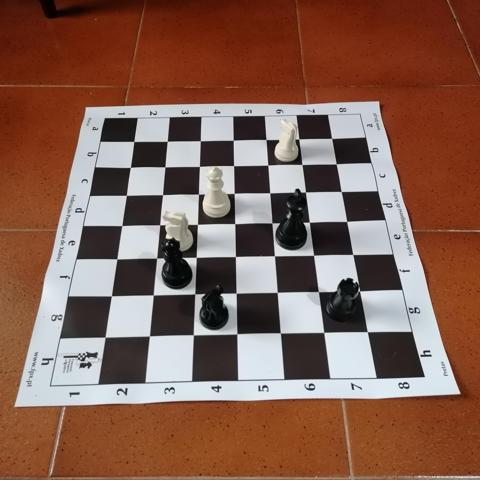xcorner: (258, 131, 274, 147), (225, 132, 241, 148), (226, 157, 242, 173), (123, 159, 139, 175), (334, 183, 350, 199), (119, 187, 135, 203), (340, 213, 356, 229), (190, 216, 206, 232), (152, 217, 168, 233), (268, 248, 284, 264), (189, 250, 205, 266), (271, 285, 287, 301), (146, 288, 162, 304), (104, 289, 120, 305), (324, 130, 339, 146), (291, 131, 307, 146), (160, 133, 175, 149), (329, 155, 344, 171), (295, 156, 310, 172), (260, 157, 276, 172), (192, 158, 207, 174), (157, 159, 173, 174), (298, 184, 314, 199), (263, 184, 278, 200), (227, 185, 242, 201), (155, 187, 171, 202), (303, 214, 318, 230), (265, 215, 281, 230), (115, 218, 130, 234), (307, 248, 323, 263), (229, 249, 244, 265), (149, 251, 165, 266), (354, 284, 370, 299), (230, 286, 245, 302), (188, 287, 203, 303), (362, 325, 378, 340), (318, 326, 334, 341), (98, 331, 114, 346), (193, 133, 208, 148), (127, 134, 142, 149), (191, 186, 206, 201), (228, 216, 243, 231), (347, 247, 362, 262), (110, 252, 125, 267), (313, 285, 328, 300), (275, 327, 290, 342), (231, 328, 246, 343), (187, 329, 202, 344), (143, 330, 158, 345)
